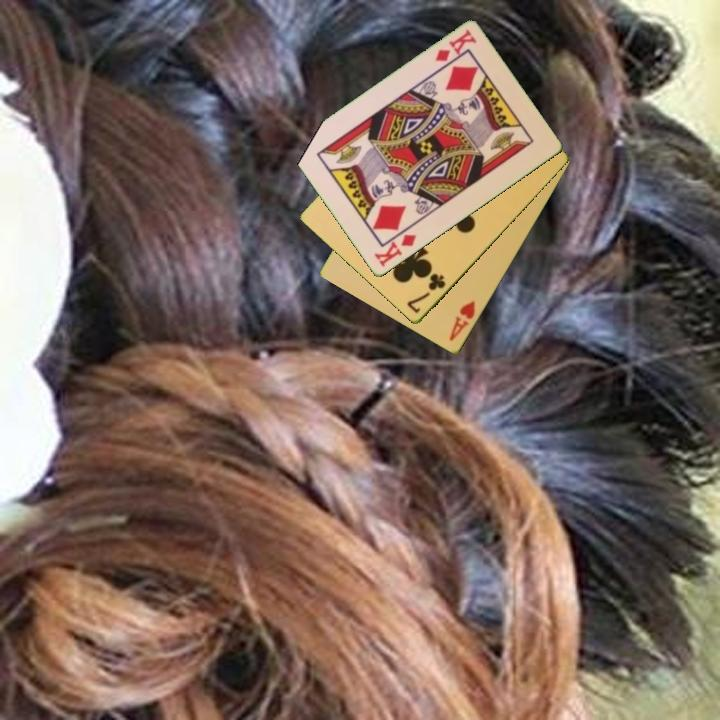7c: (403, 270, 449, 317)
Ah: (446, 298, 478, 344)
Kd: (370, 231, 419, 270), (432, 26, 479, 65)
